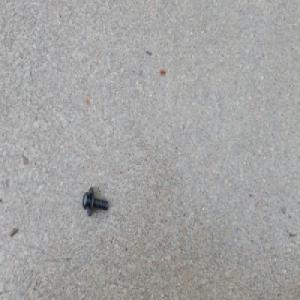BoltWasher: (81, 185, 108, 215)
